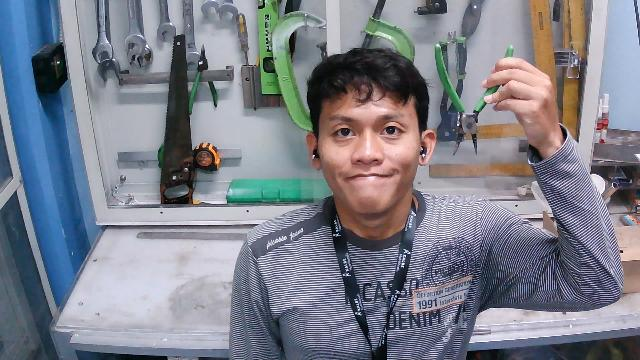tang_cucut_lancip_1: (429, 39, 526, 161)
